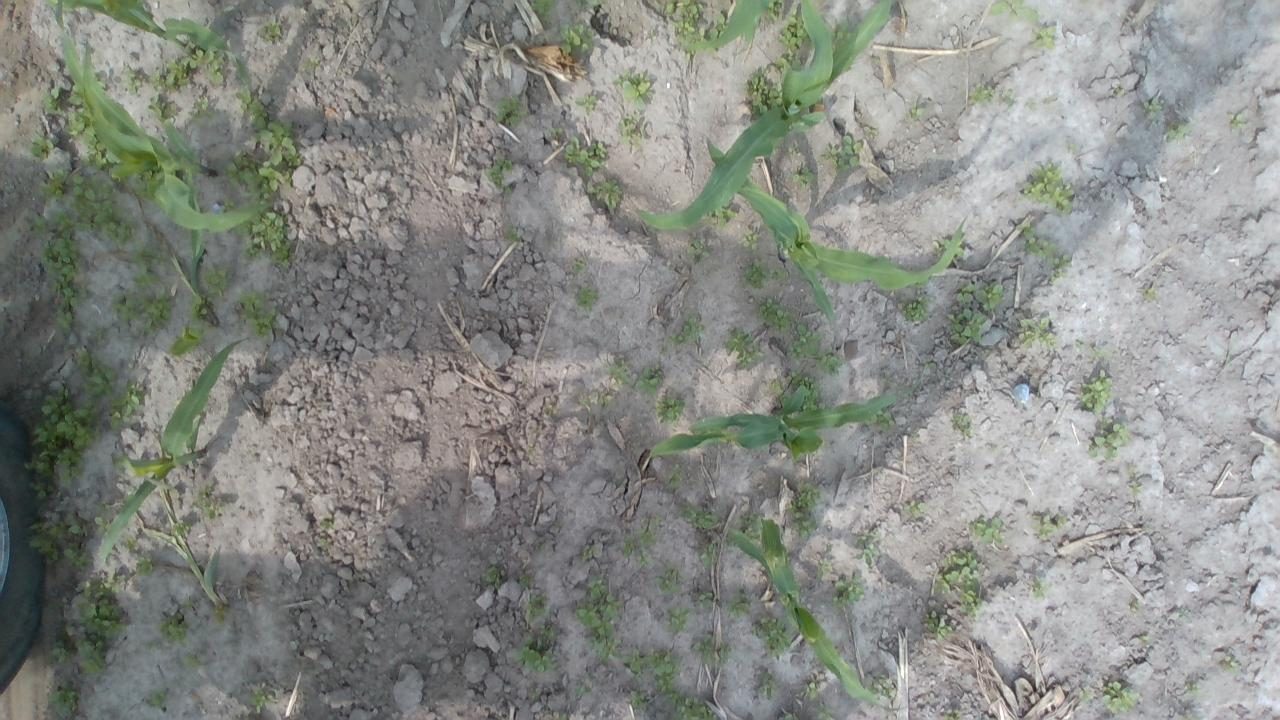Maize: (638, 0, 893, 227), (50, 0, 262, 253), (706, 135, 964, 316), (726, 516, 904, 712), (96, 340, 248, 556), (650, 380, 920, 459), (31, 0, 255, 92), (681, 0, 793, 56)
Weeds: (24, 386, 102, 483), (68, 174, 138, 245), (224, 150, 294, 202), (1020, 162, 1076, 212), (110, 289, 172, 333), (235, 208, 291, 252), (79, 124, 127, 173), (252, 120, 302, 166), (236, 292, 281, 342), (744, 65, 784, 120), (74, 599, 128, 639), (572, 594, 621, 638), (932, 546, 978, 592), (74, 347, 116, 397), (784, 482, 821, 538), (40, 238, 84, 284), (106, 382, 146, 430), (674, 0, 707, 58), (562, 136, 607, 178), (1088, 419, 1130, 463), (724, 328, 768, 370), (130, 244, 168, 290), (1078, 368, 1114, 416), (612, 70, 653, 112), (30, 514, 64, 564), (751, 616, 791, 658), (945, 307, 989, 345), (822, 134, 864, 173), (514, 637, 558, 673), (644, 647, 680, 691), (741, 257, 787, 290), (693, 634, 735, 670), (150, 57, 190, 93), (778, 6, 808, 54), (75, 636, 110, 676), (669, 691, 717, 720), (189, 49, 226, 86), (830, 573, 866, 611), (232, 89, 267, 128), (756, 296, 795, 331), (1017, 316, 1059, 348), (787, 370, 819, 412), (1100, 682, 1141, 714), (484, 154, 514, 195), (787, 324, 822, 359), (986, 0, 1040, 22), (588, 178, 622, 212), (560, 24, 596, 56), (156, 614, 189, 648), (1030, 511, 1070, 539), (36, 169, 66, 206), (494, 95, 529, 126), (616, 114, 646, 150), (585, 634, 623, 662), (191, 485, 223, 518), (704, 197, 738, 228), (50, 283, 90, 309), (80, 574, 124, 597), (49, 680, 78, 714), (854, 530, 880, 567), (815, 345, 846, 376), (969, 516, 1003, 544), (924, 610, 952, 644), (866, 670, 896, 700), (654, 396, 684, 426), (902, 292, 932, 322), (654, 566, 686, 594), (637, 514, 665, 546), (202, 264, 230, 295), (633, 366, 661, 397), (133, 166, 157, 202), (64, 542, 94, 570), (978, 282, 1006, 312), (147, 96, 179, 122), (681, 506, 717, 528), (828, 20, 852, 53), (726, 588, 752, 618), (664, 606, 692, 633), (1046, 255, 1074, 282), (756, 672, 782, 700), (606, 357, 632, 385), (67, 107, 91, 137), (682, 313, 706, 343), (188, 296, 213, 324), (1022, 238, 1057, 258), (930, 238, 964, 258), (187, 97, 214, 122), (1030, 25, 1057, 50), (28, 134, 56, 158), (523, 594, 547, 622), (696, 540, 720, 568), (576, 284, 600, 312), (866, 408, 895, 431), (1028, 575, 1053, 601), (685, 240, 711, 265), (967, 82, 995, 105), (121, 66, 142, 96), (62, 512, 86, 538), (622, 647, 644, 675), (42, 86, 62, 116), (252, 690, 276, 715), (258, 19, 284, 42), (740, 512, 761, 540), (480, 565, 504, 589), (790, 166, 816, 188), (528, 0, 554, 22), (960, 592, 981, 619), (708, 13, 728, 41), (580, 393, 614, 408), (588, 574, 608, 599), (30, 482, 56, 501), (270, 244, 292, 266), (628, 690, 650, 712), (574, 94, 596, 116), (56, 310, 76, 334), (147, 689, 172, 708), (802, 680, 824, 701), (952, 414, 973, 436), (741, 228, 760, 252), (1166, 125, 1194, 141), (666, 464, 684, 488), (955, 282, 976, 302), (184, 652, 207, 670), (903, 501, 927, 518), (30, 214, 46, 238), (778, 54, 802, 70), (766, 0, 784, 21), (51, 646, 74, 662), (134, 556, 153, 575), (1142, 98, 1160, 118), (1220, 656, 1238, 676), (68, 86, 86, 106), (1016, 222, 1037, 239), (92, 516, 110, 535), (1226, 113, 1246, 130), (696, 592, 716, 609), (213, 604, 230, 624), (816, 558, 832, 579), (241, 246, 263, 261), (580, 544, 598, 562), (504, 226, 522, 244), (620, 536, 636, 556), (906, 104, 926, 119), (938, 708, 962, 720), (1080, 684, 1096, 702), (92, 73, 108, 91), (170, 522, 192, 535), (540, 623, 557, 639), (571, 256, 586, 274), (1003, 90, 1018, 108), (1088, 347, 1112, 358), (572, 683, 594, 695), (818, 704, 834, 720), (636, 552, 652, 568), (178, 596, 196, 610), (666, 332, 684, 346), (547, 124, 567, 136), (222, 198, 238, 212), (922, 358, 938, 372), (1188, 684, 1206, 696), (124, 486, 138, 501), (769, 378, 782, 394), (1130, 482, 1144, 496), (526, 686, 540, 700), (320, 517, 333, 532), (318, 536, 331, 550), (518, 572, 531, 586), (580, 0, 606, 7), (722, 536, 736, 548), (124, 537, 135, 552), (304, 58, 320, 68), (1064, 141, 1078, 152), (665, 0, 676, 14), (1144, 286, 1156, 298), (1178, 608, 1190, 620), (779, 392, 791, 404), (1130, 600, 1140, 613), (98, 501, 111, 511), (552, 713, 568, 720), (788, 147, 798, 158), (776, 714, 794, 720), (866, 128, 876, 138), (1140, 634, 1150, 642), (1117, 88, 1127, 96), (989, 444, 998, 452), (911, 432, 919, 440), (819, 402, 826, 410)
